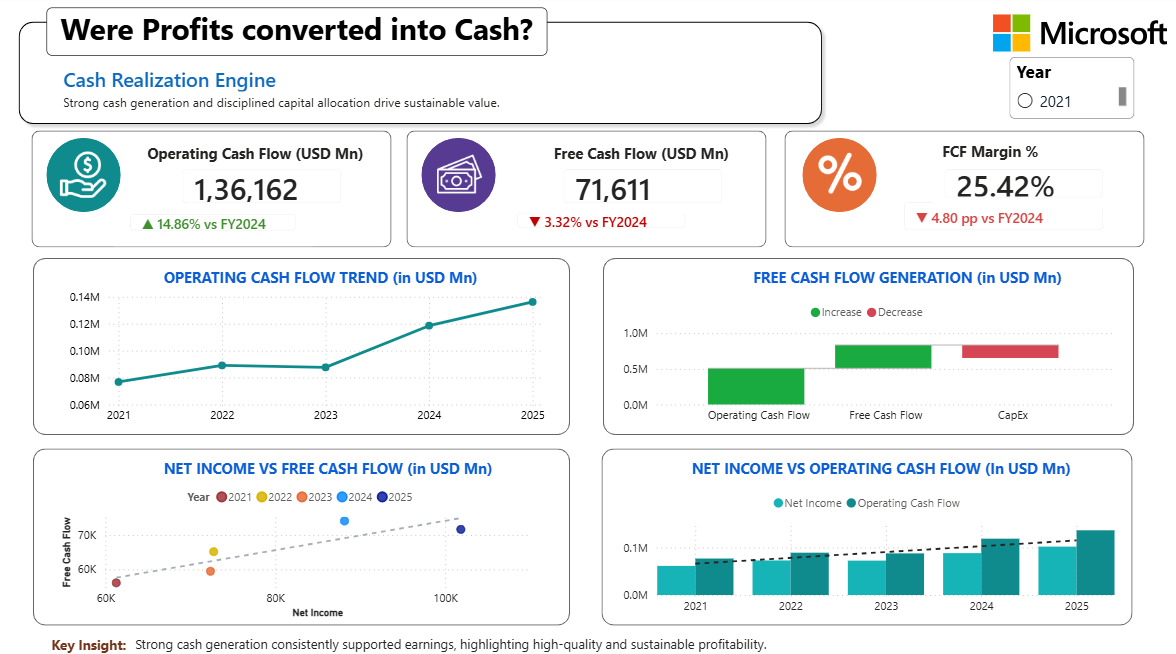

What the dashboard file says about the page in this screenshot:
{"tool":"powerbi","page":{"name":"Cash Realisation Engine","canvas":[1280,720],"ordinal":3},"visuals":[{"type":"group","id":"g1","title":"Group 8","box":[20,14.8,881.7,133.5],"z":0},{"type":"shape","box":[20,23.3,881.7,125],"z":0,"group":"g1"},{"type":"textbox","box":[57.2,14.8,540.8,51.8],"z":1000,"group":"g1"},{"type":"image","box":[1079,20,188,45],"z":1000},{"type":"listSlicer","fields":{"Values":["Income Statement.Year"]},"box":[1096.2,68,134.4,66.4],"z":2000},{"type":"textbox","box":[70.2,102.2,642.8,35.6],"z":2500,"group":"g1"},{"type":"shape","box":[40.5,147.3,388.6,126.3],"z":3000},{"type":"textbox","box":[63.7,71.5,252.6,38.9],"z":4000,"group":"g1"},{"type":"group","id":"g2","title":"Group 1","box":[56.7,155.4,79.3,79.3],"z":4000},{"type":"image","box":[63.1,170,66.4,50.2],"z":5000},{"type":"shape","box":[445.3,147.3,388.6,126.3],"z":6000},{"type":"shape","box":[56.7,155.4,80,80],"z":6250,"group":"g2"},{"type":"shape","box":[461.5,155.4,80,80],"z":6250,"group":"g3"},{"type":"shape","box":[872.8,155.4,80,80],"z":6250,"group":"g4"},{"type":"cardVisual","fields":{"Data":["Cash Flow Statement.Operating Cash Flow Indicator"]},"box":[129.5,220.2,213.7,52],"z":7000},{"type":"shape","box":[853.3,147.3,388.6,126.3],"z":8000},{"type":"cardVisual","fields":{"Data":["Sum(Cash Flow Statement.Operating Cash Flow)"]},"box":[186.2,171.6,205.6,71.2],"z":9000},{"type":"textbox","box":[160.3,155.4,257.5,34],"z":10000},{"type":"group","id":"g3","title":"Group 1","box":[461.5,155.4,79.3,79.3],"z":11000},{"type":"cardVisual","fields":{"Data":["Cash Flow Statement.FCF Growth Indicator"]},"box":[547.3,218.6,217,51.8],"z":12000},{"type":"cardVisual","fields":{"Data":["Cash Flow Statement.Total Free Cash Flow"]},"box":[597.5,171.6,205.6,71.2],"z":13000},{"type":"textbox","box":[599.1,155.4,205.6,32.4],"z":14000},{"type":"image","box":[458.2,170,89.1,48.6],"z":15000},{"type":"group","id":"g4","title":"Group 1","box":[872.8,155.4,79.3,79.3],"z":16000},{"type":"image","box":[853.3,170,119.8,47],"z":17000},{"type":"cardVisual","fields":{"Data":["Cash Flow Statement.FCF Margin Indicator"]},"box":[965.1,207.3,249.4,64.8],"z":18000},{"type":"cardVisual","fields":{"Data":["Cash Flow Statement.FCF Margin %"]},"box":[1008.8,171.6,205.6,65],"z":19000},{"type":"textbox","box":[1018.5,153.8,119.8,32.4],"z":20000},{"type":"shape","box":[42.1,285,579.7,191.1],"z":21000},{"type":"shape","box":[42.1,490.6,579.7,191.1],"z":22000},{"type":"shape","box":[657.4,285,573.2,191.1],"z":23000},{"type":"shape","box":[655.8,490.6,573.2,191.1],"z":24000},{"type":"lineChart","fields":{"Category":["Cash Flow Statement.Year"],"Y":["Sum(Cash Flow Statement.Operating Cash Flow)"]},"box":[76.1,313,523,160.3],"z":25000},{"type":"textbox","box":[178.1,290,362.7,34],"z":26000},{"type":"waterfallChart","fields":{"Y":["Cash Flow Waterfall Items.Cash Flow Waterfall Value"],"Category":["Cash Flow Waterfall Items.Item"]},"box":[673.6,323.8,540.8,149],"z":27000},{"type":"textbox","box":[814.5,289.8,357.8,34],"z":28000},{"type":"scatterChart","fields":{"X":["Income Statement.Net Income"],"Y":["Cash Flow Statement.Total Free Cash Flow"],"Series":["Cash Flow Statement.Year"]},"box":[68,523,529.5,155.4],"z":29000},{"type":"textbox","box":[178.1,495.5,385.4,34],"z":30000},{"type":"lineClusteredColumnComboChart","fields":{"Category":["Cash Flow Statement.Year"],"Y":["Sum(Income Statement.Net Income)","Sum(Cash Flow Statement.Operating Cash Flow)"]},"box":[673.6,529.5,540.8,149],"z":31000},{"type":"textbox","box":[748.1,495.5,448.5,34],"z":32000},{"type":"textbox","box":[56.7,686.6,110.1,34],"z":33000},{"type":"textbox","box":[147.3,686.6,714.1,34],"z":34000}]}

Visuals, with their boxes in screenshot pixels (x1, y1, x2, y2), scaled from the page's 1280x720 canvas onto the 1176x654 screenshot:
"Group 8" group: bbox(18, 13, 828, 135)
shape: bbox(18, 21, 828, 135)
textbox: bbox(53, 13, 549, 60)
image: bbox(991, 18, 1164, 59)
listSlicer - Income Statement.Year: bbox(1007, 62, 1131, 122)
textbox: bbox(64, 93, 655, 125)
shape: bbox(37, 134, 394, 249)
textbox: bbox(59, 65, 291, 100)
"Group 1" group: bbox(52, 141, 125, 213)
image: bbox(58, 154, 119, 200)
shape: bbox(409, 134, 766, 249)
shape: bbox(52, 141, 126, 214)
shape: bbox(424, 141, 498, 214)
shape: bbox(802, 141, 875, 214)
cardVisual - Cash Flow Statement.Operating Cash Flow Indicator: bbox(119, 200, 315, 247)
shape: bbox(784, 134, 1141, 249)
cardVisual - Sum(Cash Flow Statement.Operating Cash Flow): bbox(171, 156, 360, 221)
textbox: bbox(147, 141, 384, 172)
"Group 1" group: bbox(424, 141, 497, 213)
cardVisual - Cash Flow Statement.FCF Growth Indicator: bbox(503, 199, 702, 246)
cardVisual - Cash Flow Statement.Total Free Cash Flow: bbox(549, 156, 738, 221)
textbox: bbox(550, 141, 739, 171)
image: bbox(421, 154, 503, 199)
"Group 1" group: bbox(802, 141, 875, 213)
image: bbox(784, 154, 894, 197)
cardVisual - Cash Flow Statement.FCF Margin Indicator: bbox(887, 188, 1116, 247)
cardVisual - Cash Flow Statement.FCF Margin %: bbox(927, 156, 1116, 215)
textbox: bbox(936, 140, 1046, 169)
shape: bbox(39, 259, 571, 432)
shape: bbox(39, 446, 571, 619)
shape: bbox(604, 259, 1131, 432)
shape: bbox(603, 446, 1129, 619)
lineChart - Cash Flow Statement.Year x Sum(Cash Flow Statement.Operating Cash Flow): bbox(70, 284, 550, 430)
textbox: bbox(164, 263, 497, 294)
waterfallChart - Cash Flow Waterfall Items.Cash Flow Waterfall Value x Cash Flow Waterfall Items.Item: bbox(619, 294, 1116, 429)
textbox: bbox(748, 263, 1077, 294)
scatterChart - Income Statement.Net Income x Cash Flow Statement.Total Free Cash Flow: bbox(62, 475, 549, 616)
textbox: bbox(164, 450, 518, 481)
lineClusteredColumnComboChart - Cash Flow Statement.Year x Sum(Income Statement.Net Income): bbox(619, 481, 1116, 616)
textbox: bbox(687, 450, 1099, 481)
textbox: bbox(52, 624, 153, 653)
textbox: bbox(135, 624, 791, 653)
